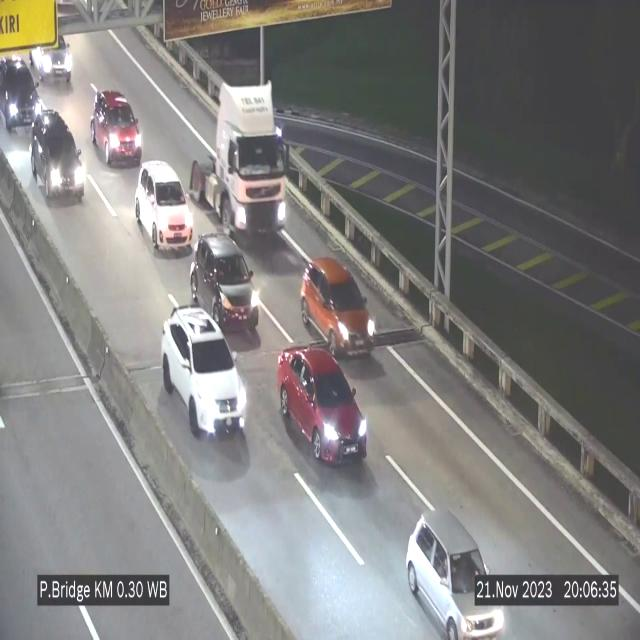Car: (406, 513, 506, 639), (277, 344, 368, 469), (162, 306, 248, 436), (186, 228, 262, 344), (25, 111, 93, 214), (300, 257, 370, 356), (135, 161, 193, 251), (92, 90, 142, 166), (0, 55, 47, 132), (32, 28, 82, 92)
Truck: (188, 77, 294, 240)
